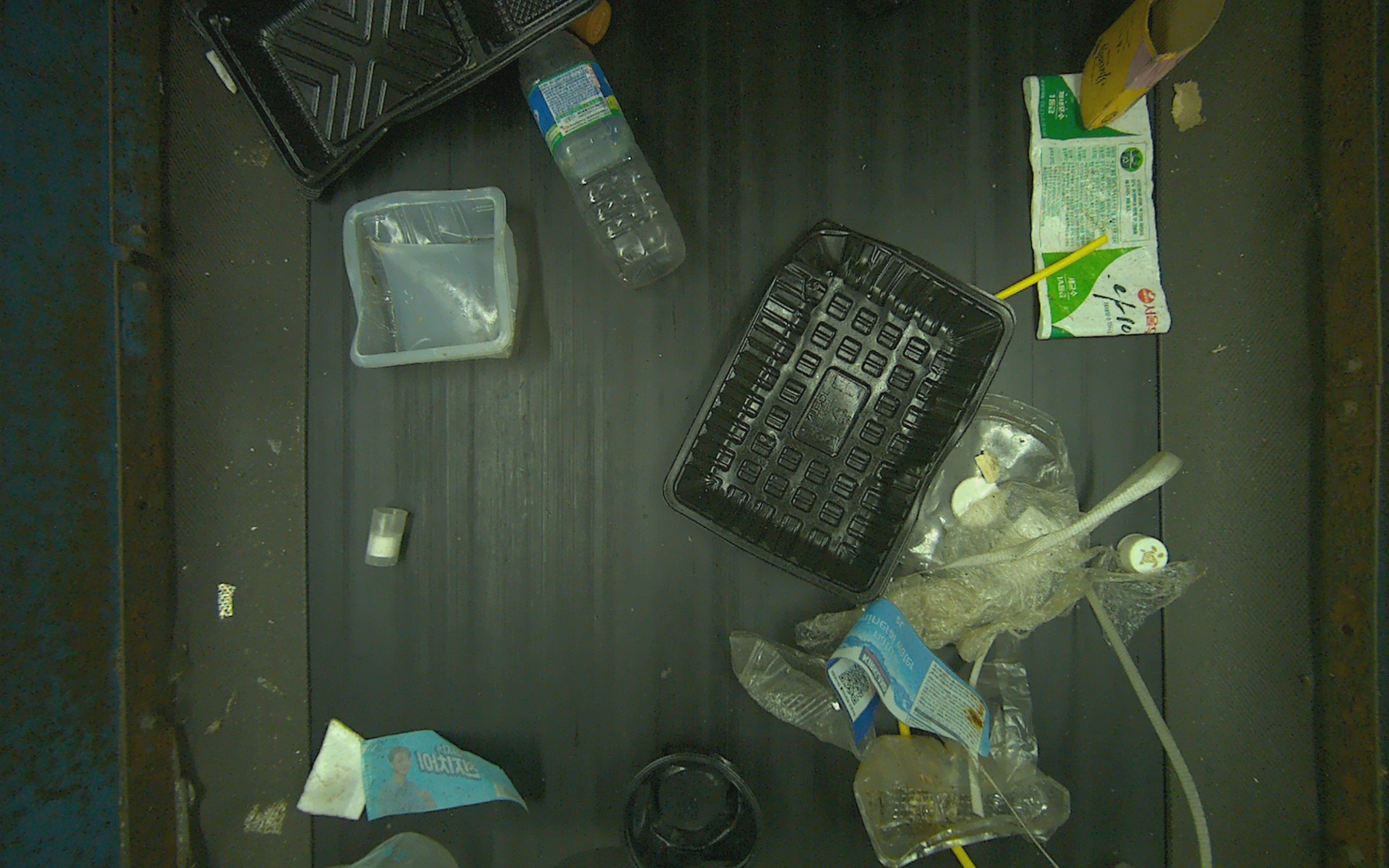PET: (518, 30, 686, 288)
PET-C: (854, 735, 1071, 867), (729, 631, 876, 758)
